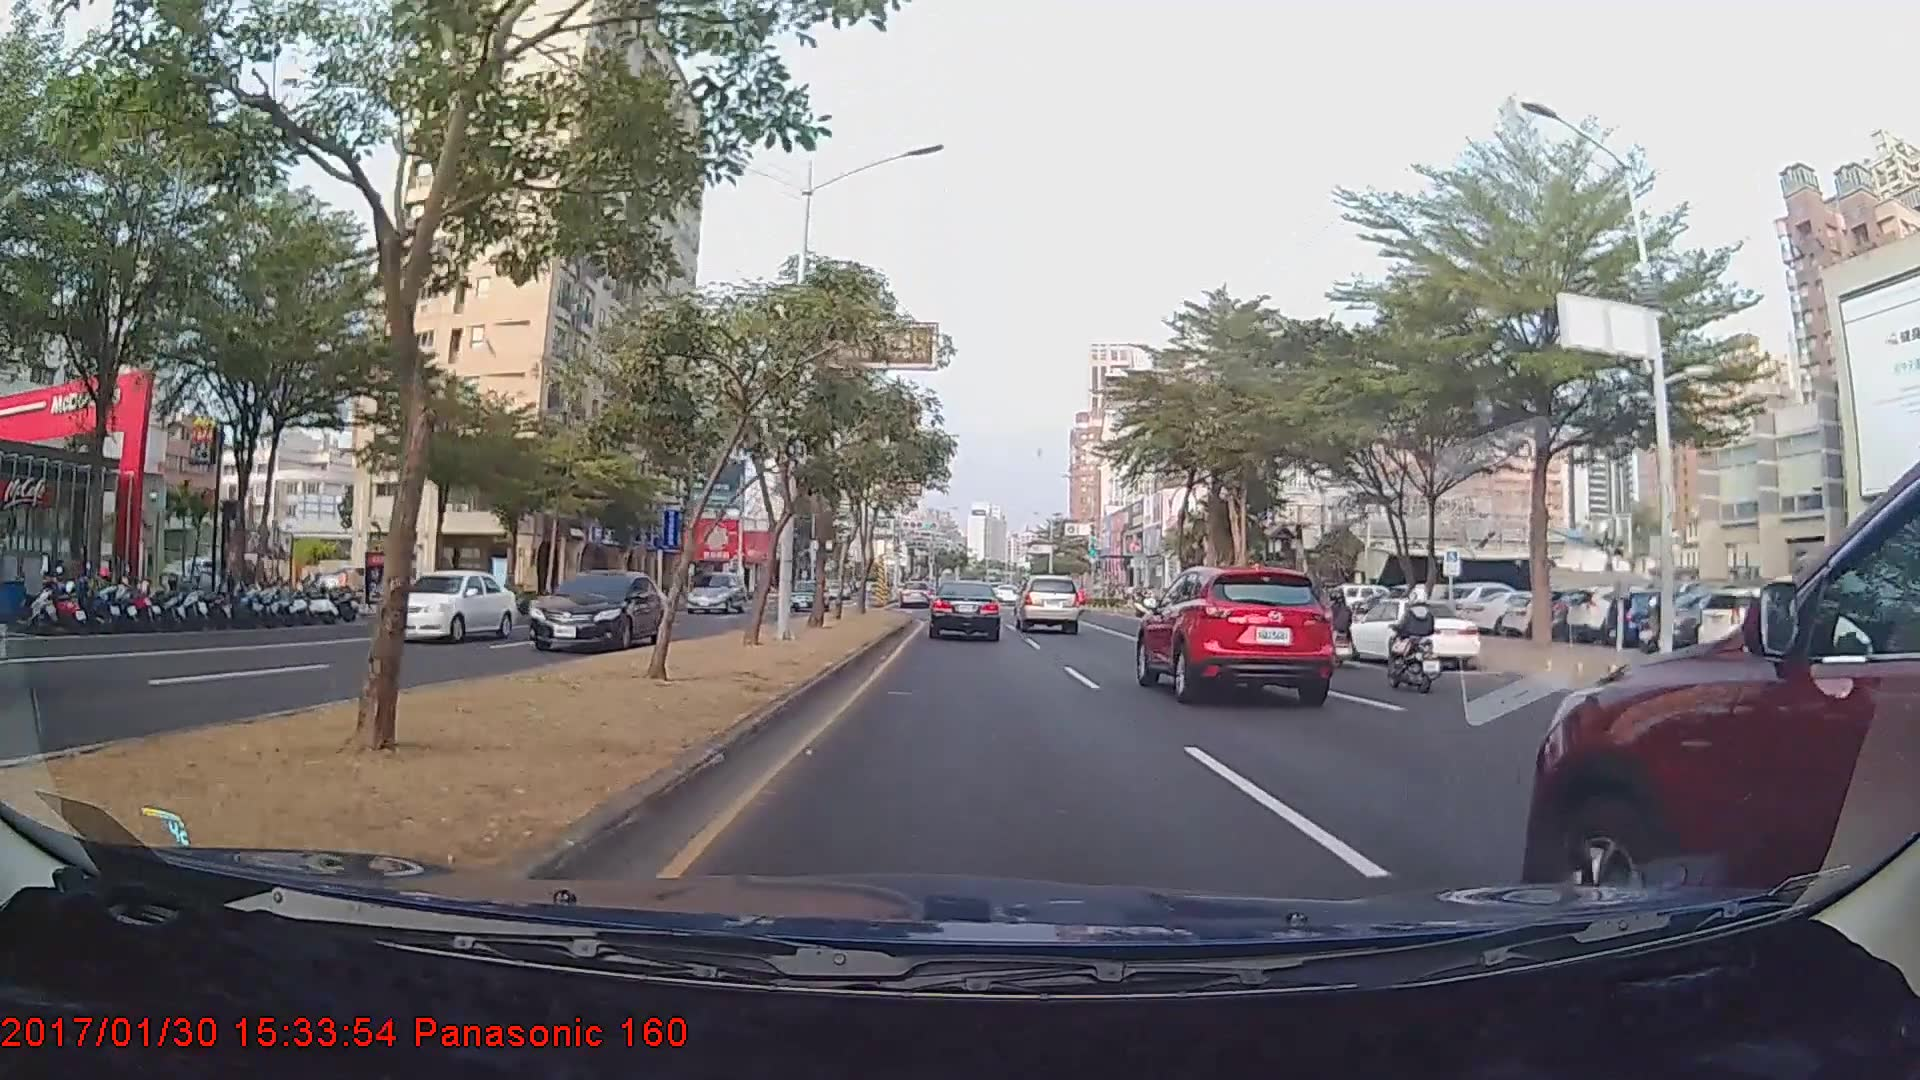rider: (1377, 586, 1448, 695)
vehicle: (1523, 429, 1920, 984), (1135, 558, 1336, 703), (528, 568, 671, 651), (1340, 596, 1481, 669), (379, 571, 515, 642), (928, 579, 1002, 642), (1015, 573, 1080, 635), (682, 570, 749, 613), (790, 581, 829, 613), (899, 580, 932, 609)
